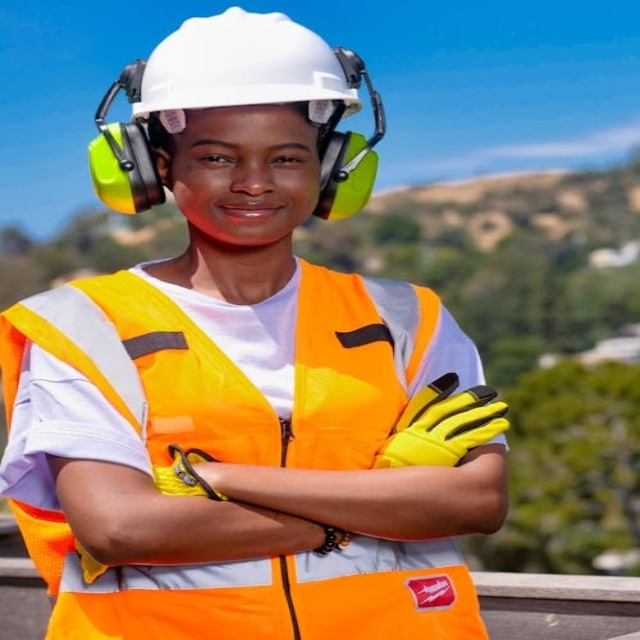Guantes: (373, 378, 511, 469), (154, 445, 228, 500)
Sin_gafas: (178, 135, 319, 178)
Sin_mascara: (197, 195, 298, 242)
